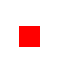square: (19, 26, 39, 46)
